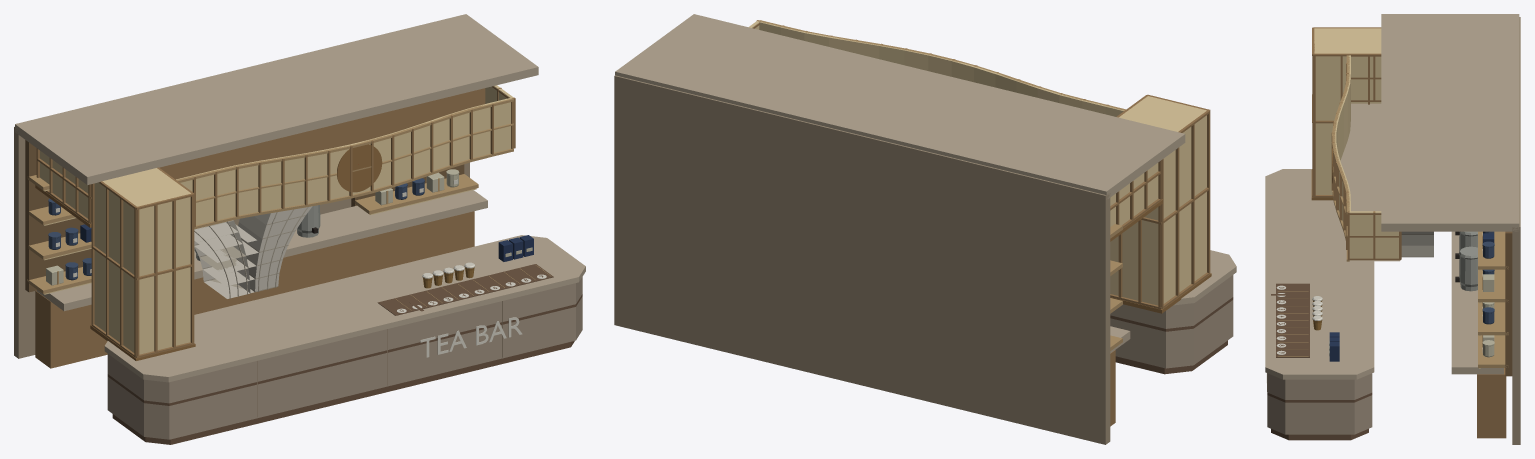
File: counter.glb
The picture shows the model from 3 angles, left to right: view 1: azimuth 30°, elevation 25°; view 2: azimuth 150°, elevation 25°; view 3: azimuth 270°, elevation 25°; orthographic projection. The views are drawn at different scales.
Parts seen in each view (by area): view 1: ChageeGangnamCounter; view 2: ChageeGangnamCounter; view 3: ChageeGangnamCounter.
Part boxes in pixels (x1,y1,x2,y2): ChageeGangnamCounter: [14, 14, 585, 444]; ChageeGangnamCounter: [614, 14, 1236, 444]; ChageeGangnamCounter: [1265, 14, 1520, 444].
Size of the model in its own units: 6.44 by 3.17 by 3.31.
